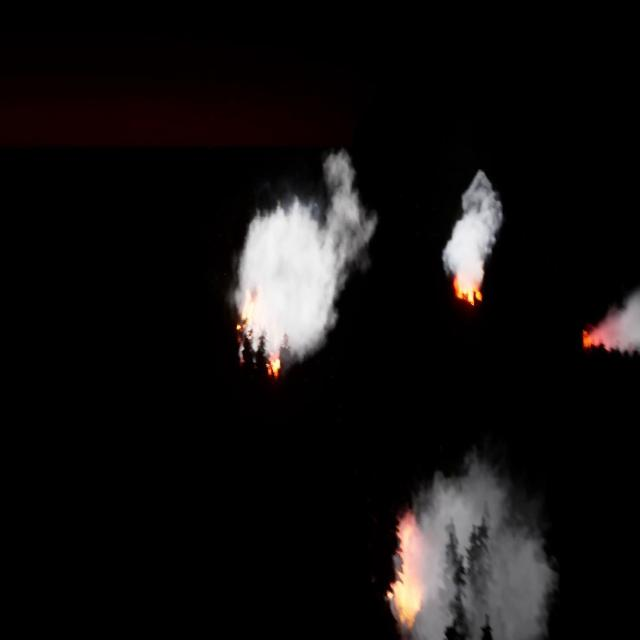fire: (386, 512, 431, 639), (237, 297, 282, 392), (582, 318, 604, 357), (455, 274, 484, 303)
smoke: (232, 145, 378, 375), (390, 457, 554, 639), (438, 172, 503, 302), (590, 294, 640, 361)
